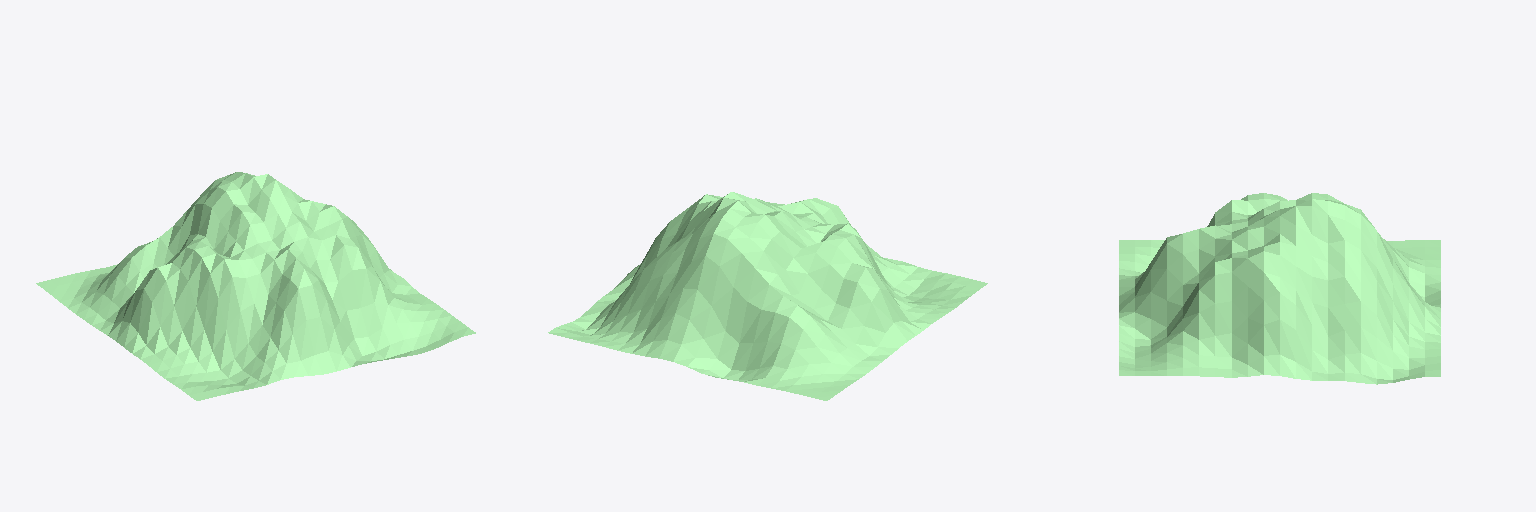
The model's file is rock.obj.
The picture shows the model from 3 angles: view 1: azimuth 30°, elevation 25°; view 2: azimuth 150°, elevation 25°; view 3: azimuth 270°, elevation 25°; orthographic projection.
Parts seen in each view (by area): view 1: Mesh1 Group1 Model; view 2: Mesh1 Group1 Model; view 3: Mesh1 Group1 Model.
Boxes of the visible parts, <box> form: Mesh1 Group1 Model: <box>36,172,475,400</box>; Mesh1 Group1 Model: <box>548,192,987,400</box>; Mesh1 Group1 Model: <box>1119,193,1440,384</box>.
Bounding box in the file's own units: 30 × 13.08 × 30.